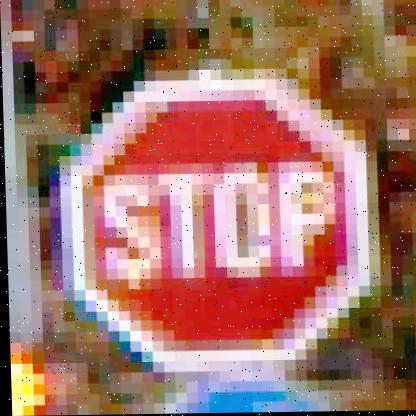Stop Sign: (65, 75, 377, 373)
